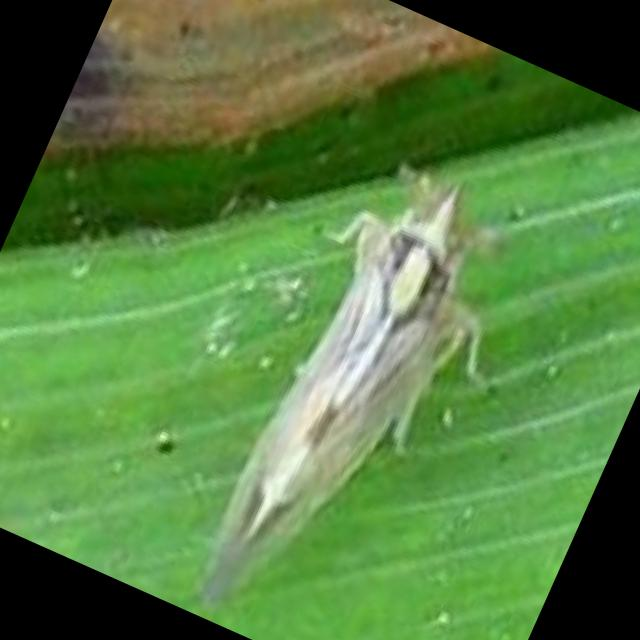brown-planthopper: (181, 141, 518, 640)
